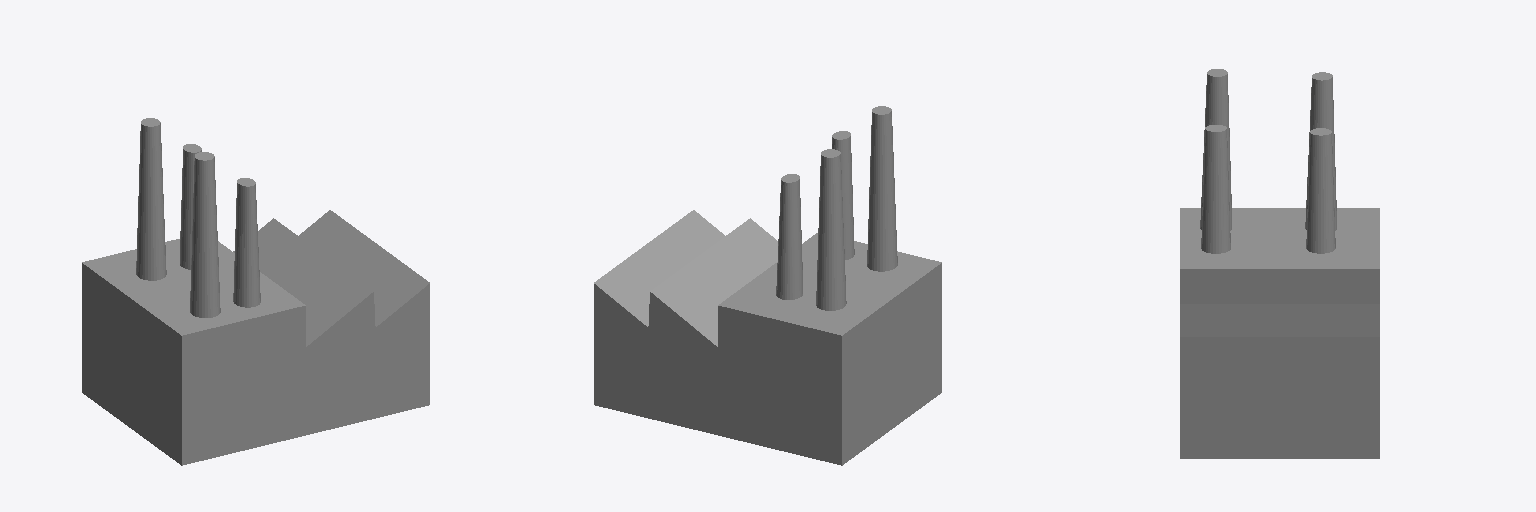
File: usine.obj
The picture shows the model from 3 angles: view 1: azimuth 30°, elevation 25°; view 2: azimuth 150°, elevation 25°; view 3: azimuth 270°, elevation 25°; orthographic projection.
Parts seen in each view (by area): view 1: Cube; view 2: Cube; view 3: Cube.
Boxes of the visible parts, x1=… form: Cube: x1=82, y1=118, x2=429, y2=465; Cube: x1=594, y1=106, x2=941, y2=465; Cube: x1=1180, y1=69, x2=1379, y2=458.
Size of the model in its own units: 8 by 8.78 by 5.58.